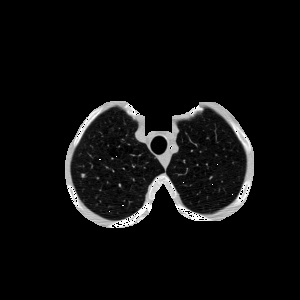PN: (81, 173, 85, 177)
